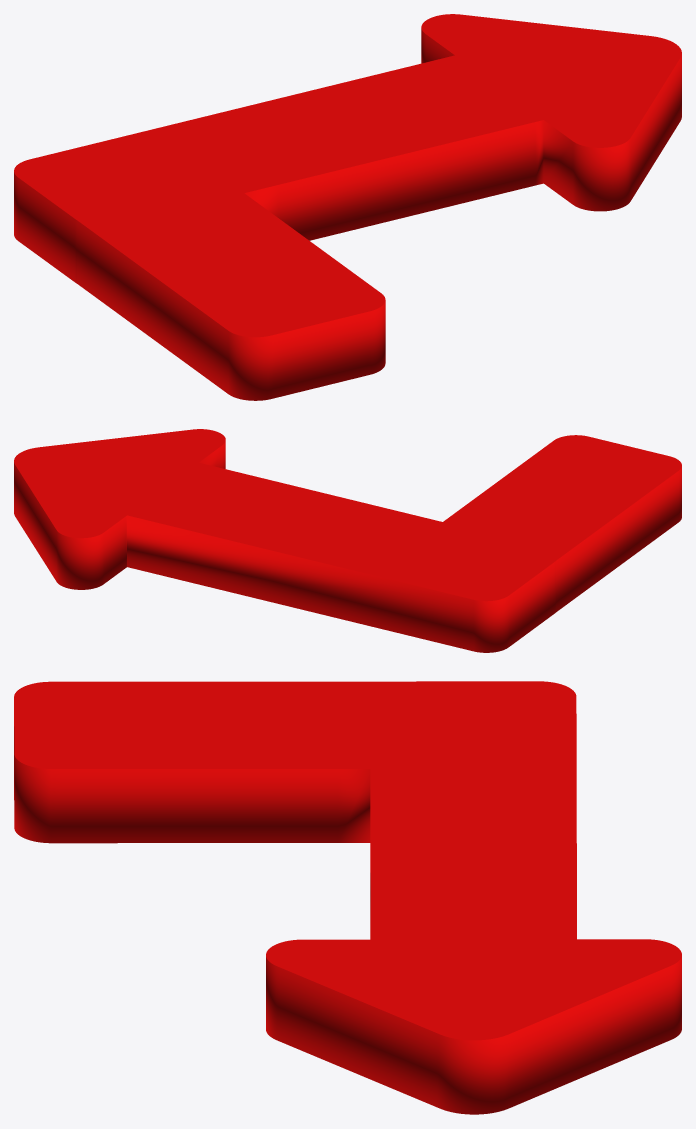
The model's file is arrow_belok.gltf.
3 renders of one model, top to bottom at view 1: azimuth 30°, elevation 25°; view 2: azimuth 150°, elevation 25°; view 3: azimuth 270°, elevation 25°, orthographic. The views are drawn at different scales.
Parts seen in each view (by area): view 1: Curve.001; view 2: Curve.001; view 3: Curve.001.
Boxes of the visible parts, box(x1,y1,x2,y2) form: Curve.001: box(14, 14, 681, 400); Curve.001: box(14, 429, 681, 652); Curve.001: box(14, 681, 681, 1114).
Size of the model in its own units: 1.05 by 0.101 by 0.8245.
